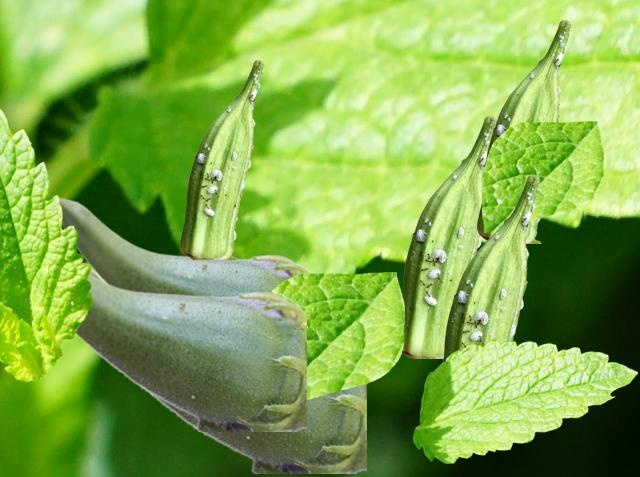okra: (91, 268, 365, 472), (75, 273, 305, 430), (60, 197, 309, 295), (402, 116, 496, 357), (477, 20, 570, 242), (442, 175, 539, 361), (180, 60, 263, 258)
